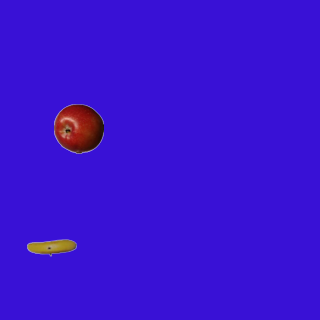Apple Braeburn: (53, 103, 103, 153)
Banana: (26, 222, 76, 272)
